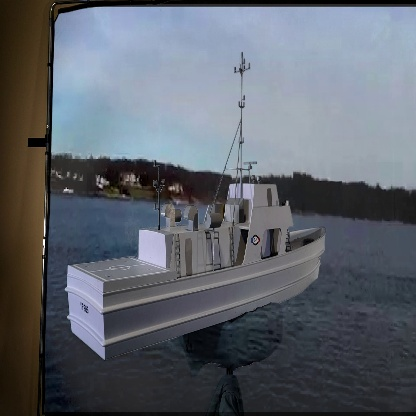YP689: (65, 51, 326, 361)
